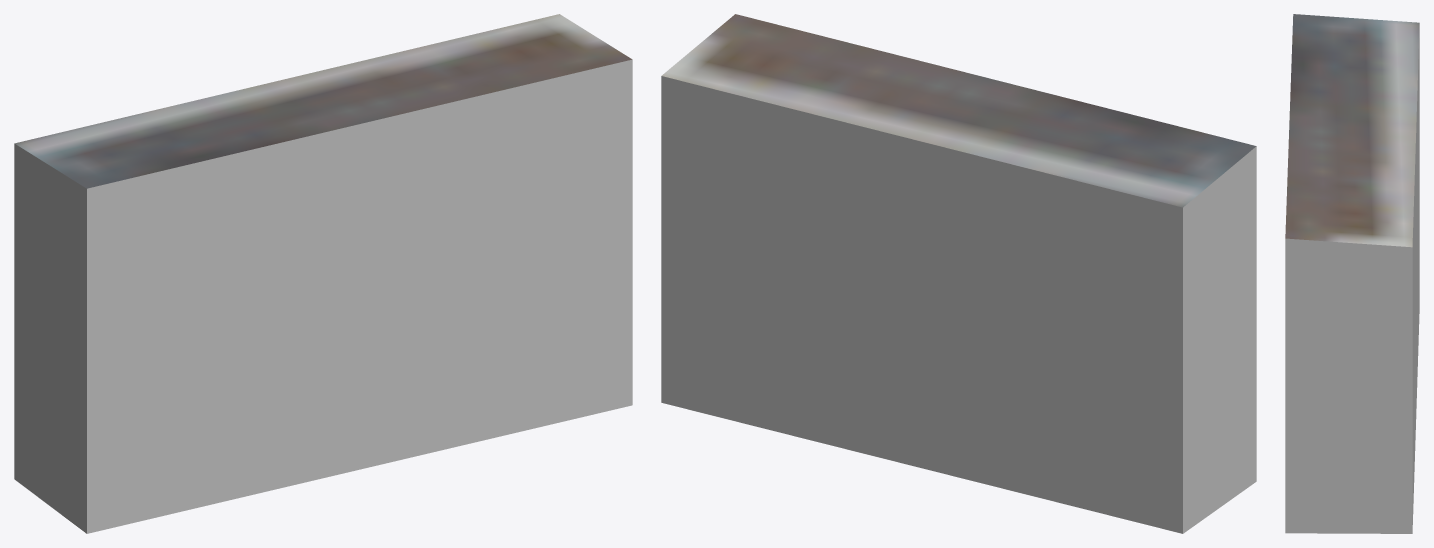
Rendered from DEBW_0010007THZc.gltf.
3 renders of one model, left to right at view 1: azimuth 30°, elevation 25°; view 2: azimuth 150°, elevation 25°; view 3: azimuth 270°, elevation 25°, orthographic. The views are drawn at different scales.
Visible parts, largest first — view 1: Z_UP; view 2: Z_UP; view 3: Z_UP.
Boxes of the visible parts, bbox=[...] form: Z_UP: bbox=[14, 14, 632, 533]; Z_UP: bbox=[661, 14, 1256, 533]; Z_UP: bbox=[1285, 14, 1419, 533].
Size of the model in its own units: 6.76 by 4.12 by 1.7.
Materials: 2 (1 with a texture image).
